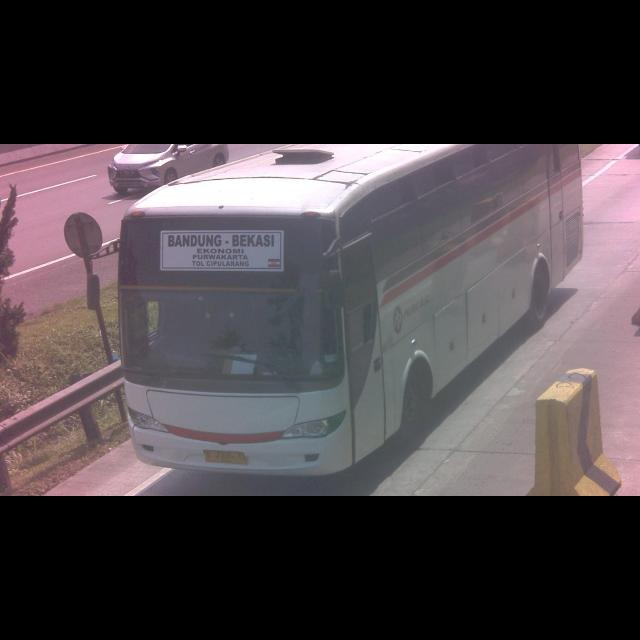plate: (200, 449, 252, 467)
